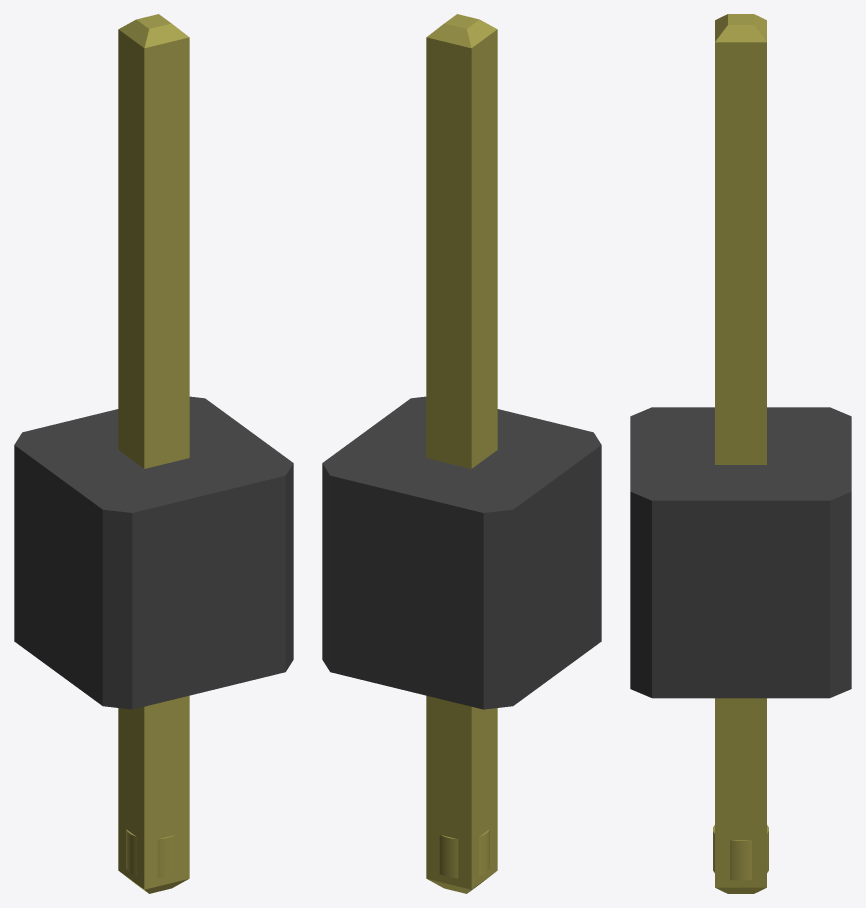
Rendered from Stiftleiste_Male.obj.
3 views of the same model, side by side, from view 1: azimuth 30°, elevation 25°; view 2: azimuth 150°, elevation 25°; view 3: azimuth 270°, elevation 25° (orthographic).
Visible parts, largest first — view 1: Volumenkörper1; view 2: Volumenkörper1; view 3: Volumenkörper1.
Part boxes in pixels (x1,y1,x2,y2): Volumenkörper1: (14, 14, 293, 893); Volumenkörper1: (322, 14, 601, 893); Volumenkörper1: (630, 14, 851, 893).
Size of the model in its own units: 2.54 by 11 by 2.54.
